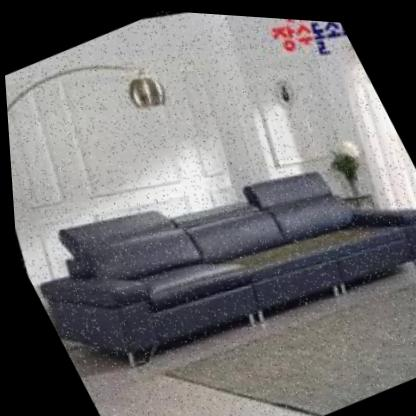Sofa: (4, 83, 416, 416)
